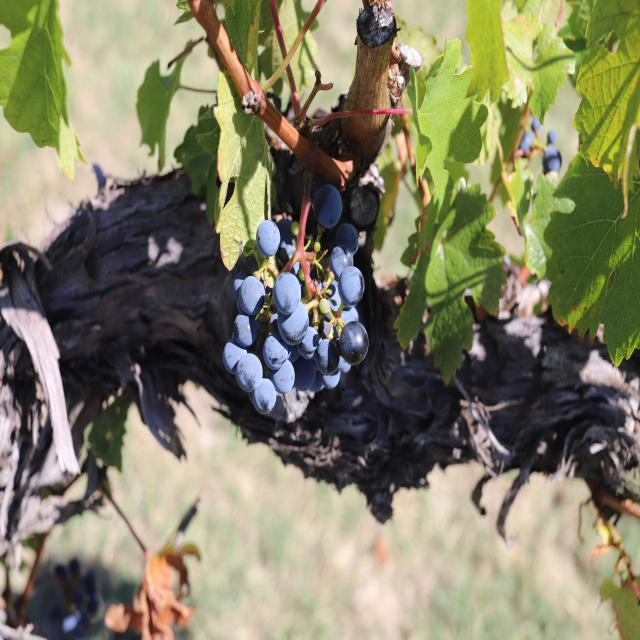grapes: (222, 172, 368, 414)
stem: (290, 165, 316, 296)
